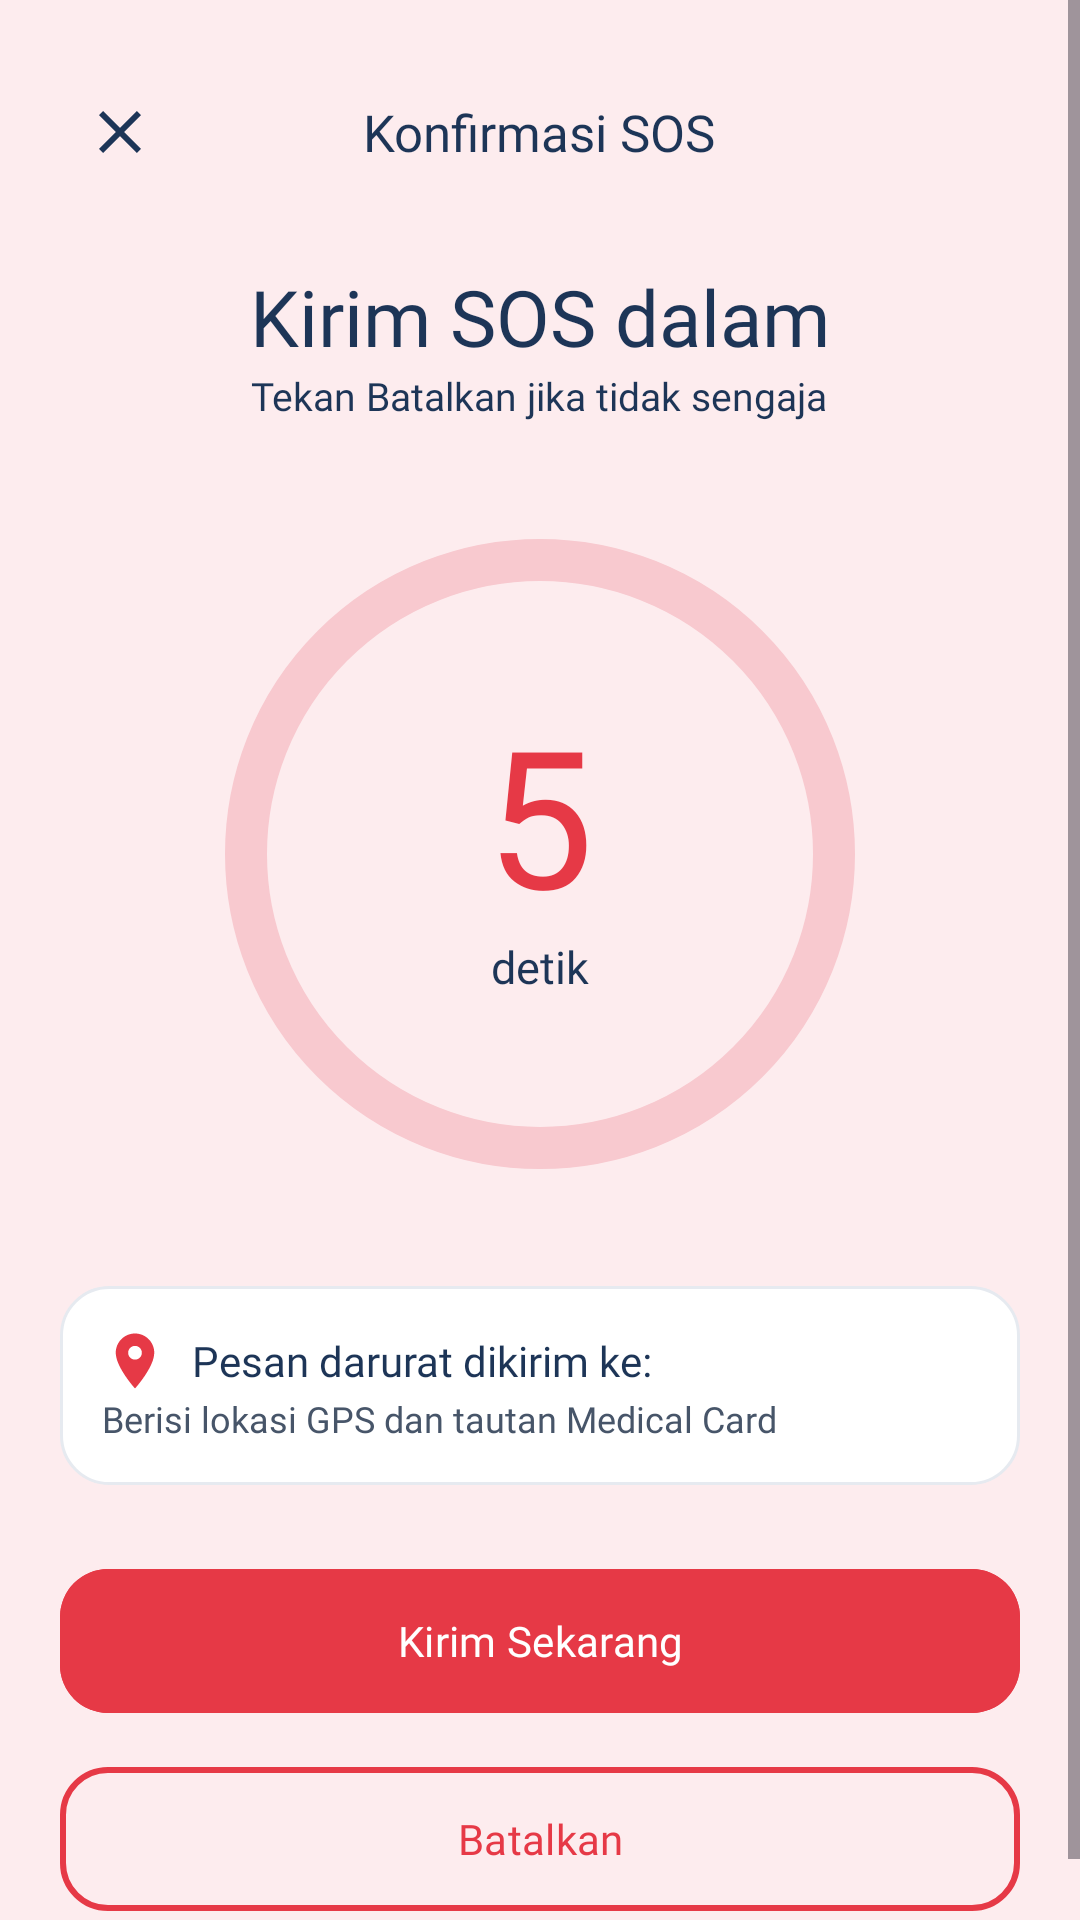

Named icons in this screenshot (1080x1920) and their centers, (x,y):
Tutup: (120,132)
